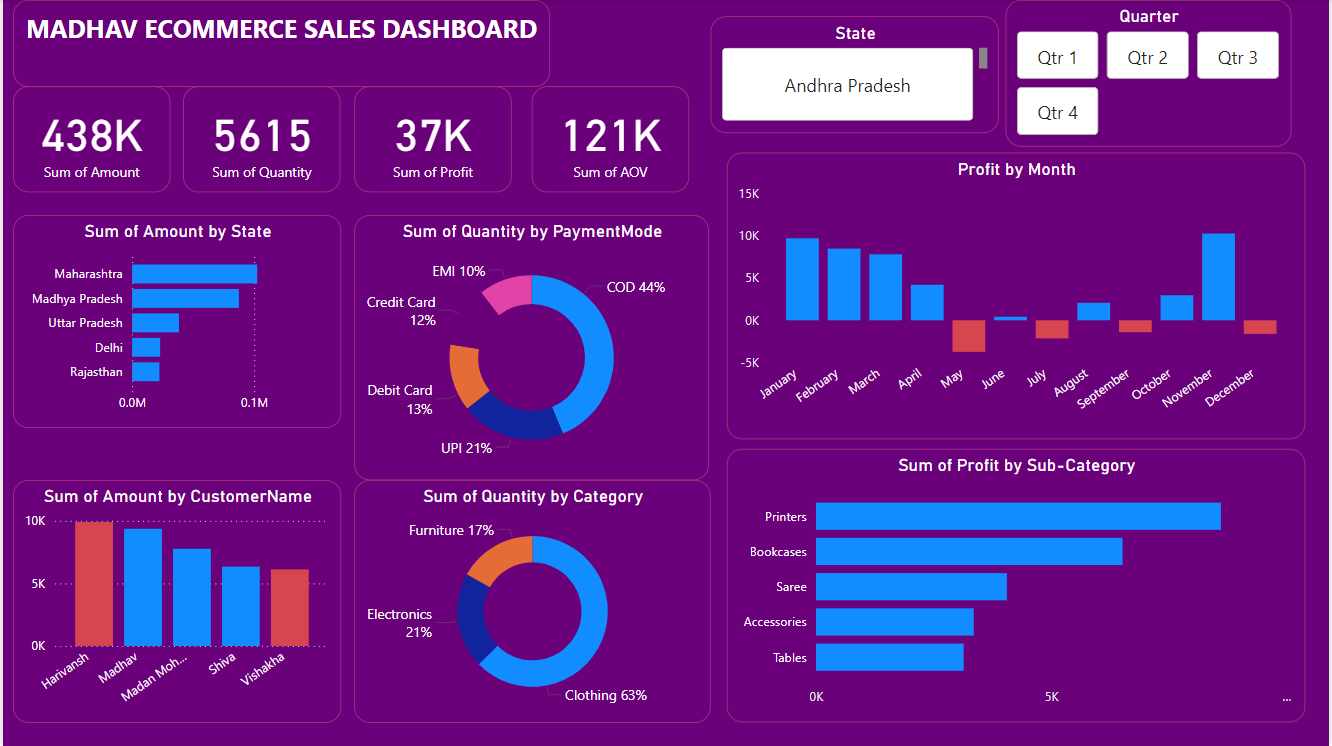

What the dashboard file says about the page in this screenshot:
{"tool":"powerbi","page":{"name":"Page 1","canvas":[1280,720],"ordinal":0},"visuals":[{"type":"textbox","box":[9.6,0,518.7,83.7],"z":0},{"type":"columnChart","title":"Profit by Month","fields":{"Category":["Orders.Order Date.Variation.Date Hierarchy.Month"],"Y":["Sum(Details.Profit)"]},"box":[698.5,146.8,558.5,277.2],"z":1000},{"type":"barChart","fields":{"Y":["Sum(Details.Profit)"],"Category":["Details.Sub-Category"]},"box":[698.5,433.1,558.6,264.2],"z":2000},{"type":"donutChart","fields":{"Category":["Details.Category"],"Y":["Sum(Details.Quantity)"]},"box":[339,463.3,343.8,234],"z":3000},{"type":"donutChart","fields":{"Y":["Sum(Details.Quantity)"],"Category":["Details.PaymentMode"]},"box":[339,207.5,342.6,255.8],"z":4000},{"type":"card","fields":{"Values":["Sum(Details.Amount)"]},"box":[9.7,83.2,152,102.5],"z":5000},{"type":"card","fields":{"Values":["Sum(Details.Quantity)"]},"box":[173.7,83.2,152,102.5],"z":6000},{"type":"card","fields":{"Values":["Sum(Details.Profit)"]},"box":[339,83.2,152,102.5],"z":7000},{"type":"card","fields":{"Values":["Sum(Details.AOV)"]},"box":[510.3,83.2,152,102.5],"z":8000},{"type":"barChart","fields":{"Category":["Orders.State"],"Y":["Sum(Details.Amount)"]},"box":[9.6,207.2,317,205.8],"z":9000},{"type":"columnChart","fields":{"Category":["Orders.CustomerName"],"Y":["Sum(Details.Amount)"]},"box":[10,463,317,234],"z":10000},{"type":"advancedSlicerVisual","fields":{"Values":["Orders.Order Date.Variation.Date Hierarchy.Quarter"]},"box":[967.4,0,275.8,141.3],"z":11000},{"type":"advancedSlicerVisual","fields":{"Values":["Orders.State"]},"box":[683.4,15.1,278.6,112.5],"z":12000}]}

Visuals, with their boxes in screenshot pixels (x1, y1, x2, y2), scaled from the page's 1280x720 canvas onto the 1332x746 screenshot:
textbox: bbox=[10, 0, 550, 87]
"Profit by Month" columnChart: bbox=[727, 152, 1308, 439]
barChart - Sum(Details.Profit) x Details.Sub-Category: bbox=[727, 449, 1308, 722]
donutChart - Details.Category x Sum(Details.Quantity): bbox=[353, 480, 711, 722]
donutChart - Sum(Details.Quantity) x Details.PaymentMode: bbox=[353, 215, 709, 480]
card - Sum(Details.Amount): bbox=[10, 86, 168, 192]
card - Sum(Details.Quantity): bbox=[181, 86, 339, 192]
card - Sum(Details.Profit): bbox=[353, 86, 511, 192]
card - Sum(Details.AOV): bbox=[531, 86, 689, 192]
barChart - Orders.State x Sum(Details.Amount): bbox=[10, 215, 340, 428]
columnChart - Orders.CustomerName x Sum(Details.Amount): bbox=[10, 480, 340, 722]
advancedSlicerVisual - Orders.Order Date.Variation.Date Hierarchy.Quarter: bbox=[1007, 0, 1294, 146]
advancedSlicerVisual - Orders.State: bbox=[711, 16, 1001, 132]
